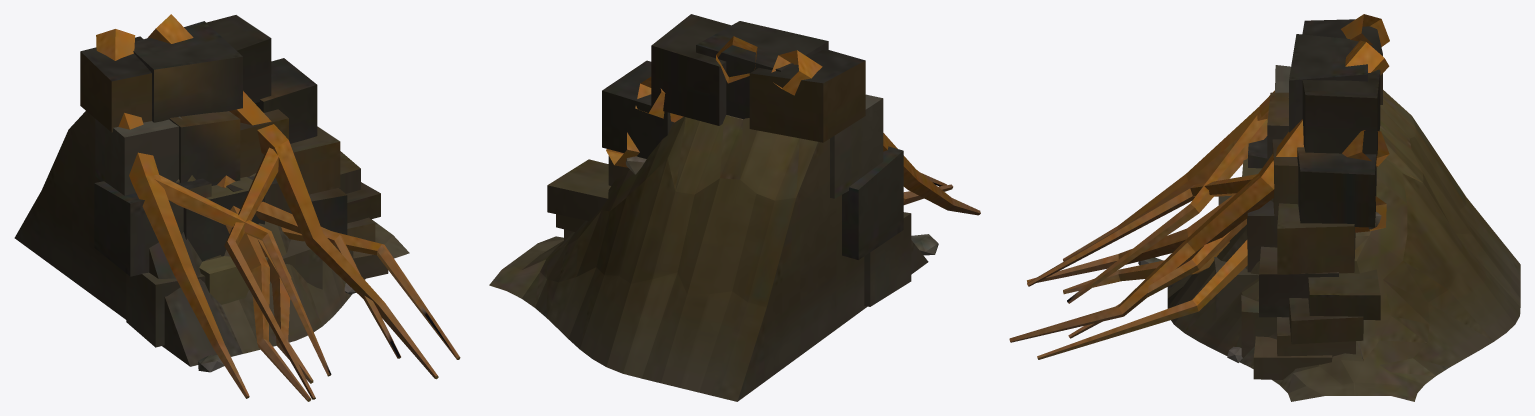
File: cliff-gleba-exit.glb
The picture shows the model from 3 angles, left to right: view 1: azimuth 30°, elevation 25°; view 2: azimuth 150°, elevation 25°; view 3: azimuth 270°, elevation 25°; orthographic projection. The views are drawn at different scales.
Visible parts, largest first — view 1: cliff-gleba-exit; view 2: cliff-gleba-exit; view 3: cliff-gleba-exit.
Boxes of the visible parts, x1=… form: cliff-gleba-exit: x1=14, y1=14, x2=460, y2=401; cliff-gleba-exit: x1=489, y1=14, x2=980, y2=401; cliff-gleba-exit: x1=1009, y1=14, x2=1520, y2=401.
Bounding box in the file's own units: 3.2 × 2.66 × 4.71.
3 materials, 3 textured.
